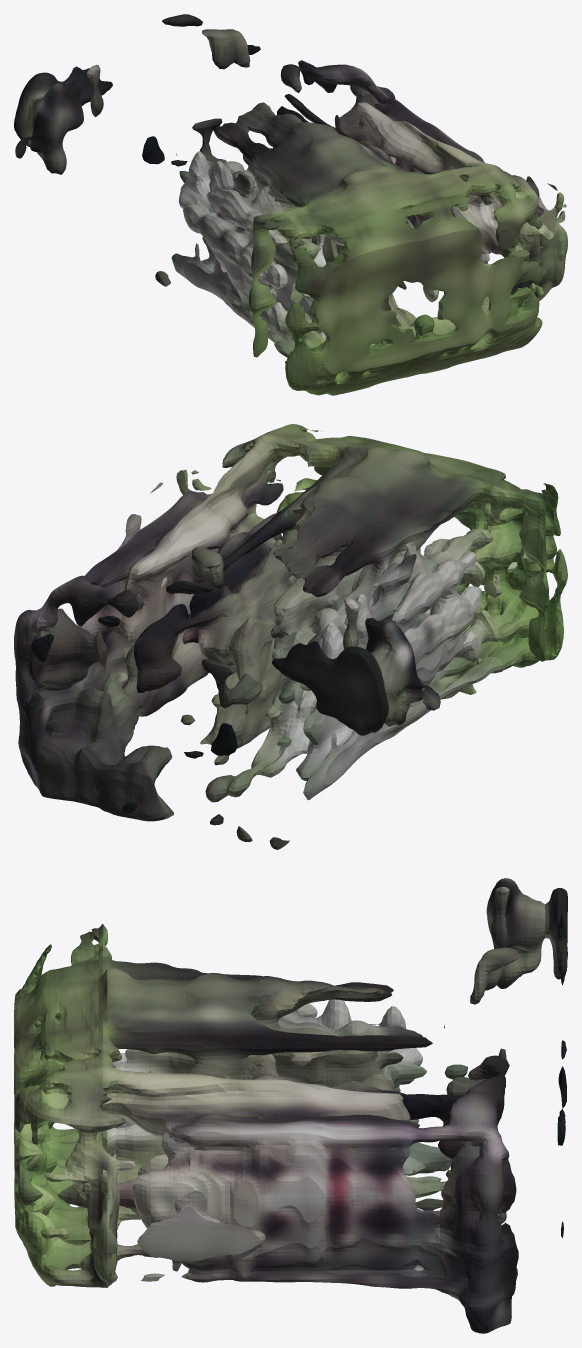
File: a_smart_lamp.0.glb
The picture shows the model from 3 angles, top to bottom: view 1: azimuth 30°, elevation 25°; view 2: azimuth 150°, elevation 25°; view 3: azimuth 270°, elevation 25°; orthographic projection. The views are drawn at different scales.
Parts seen in each view (by area): view 1: a_smart_lamp.0.obj; view 2: a_smart_lamp.0.obj; view 3: a_smart_lamp.0.obj.
Part boxes in pixels (box(x1,y1,x2,y2)): a_smart_lamp.0.obj: box(14, 14, 567, 395); a_smart_lamp.0.obj: box(14, 424, 567, 849); a_smart_lamp.0.obj: box(14, 878, 567, 1333).
Bounding box in the file's own units: 1.97 × 1.14 × 1.96.
